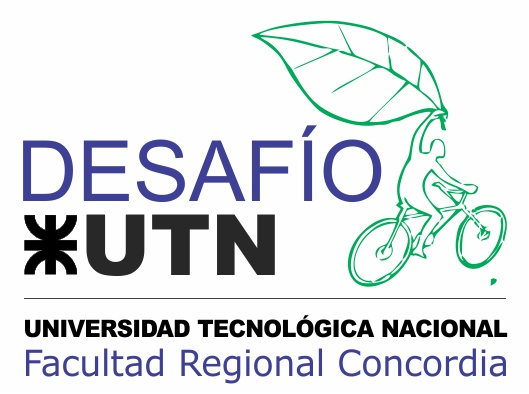utn: (17, 211, 86, 278)
